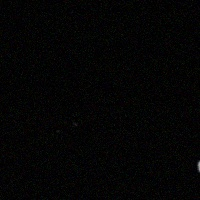chromosome: (197, 160, 200, 180)
